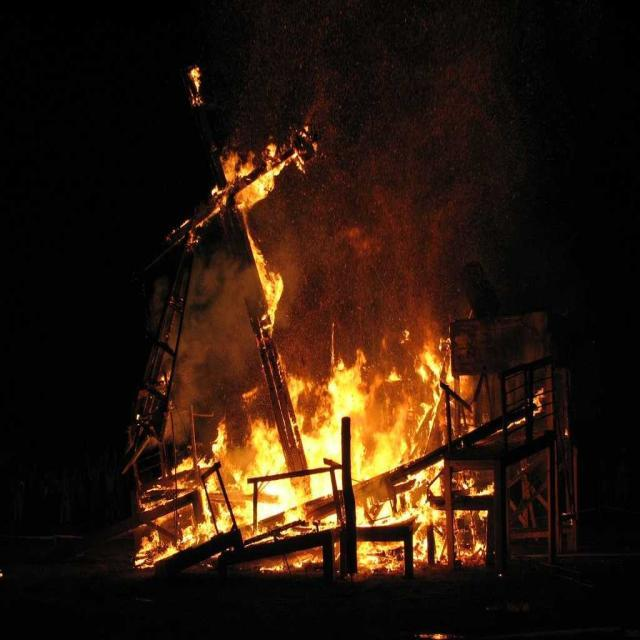Fire: (365, 433, 414, 470), (334, 372, 364, 424), (304, 440, 338, 478), (260, 438, 284, 477)
Smoke: (312, 176, 438, 306), (188, 280, 252, 395)
